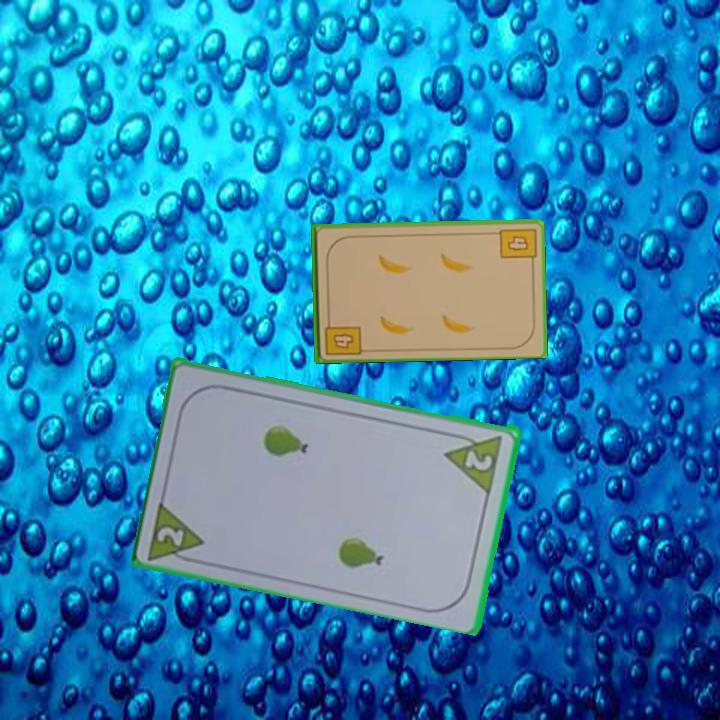2p: (144, 496, 209, 567), (462, 446, 496, 474)
4b: (321, 313, 363, 358), (495, 225, 538, 267)
